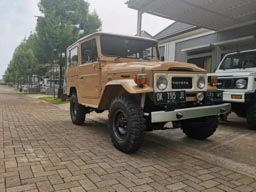plat: (156, 91, 185, 99)
